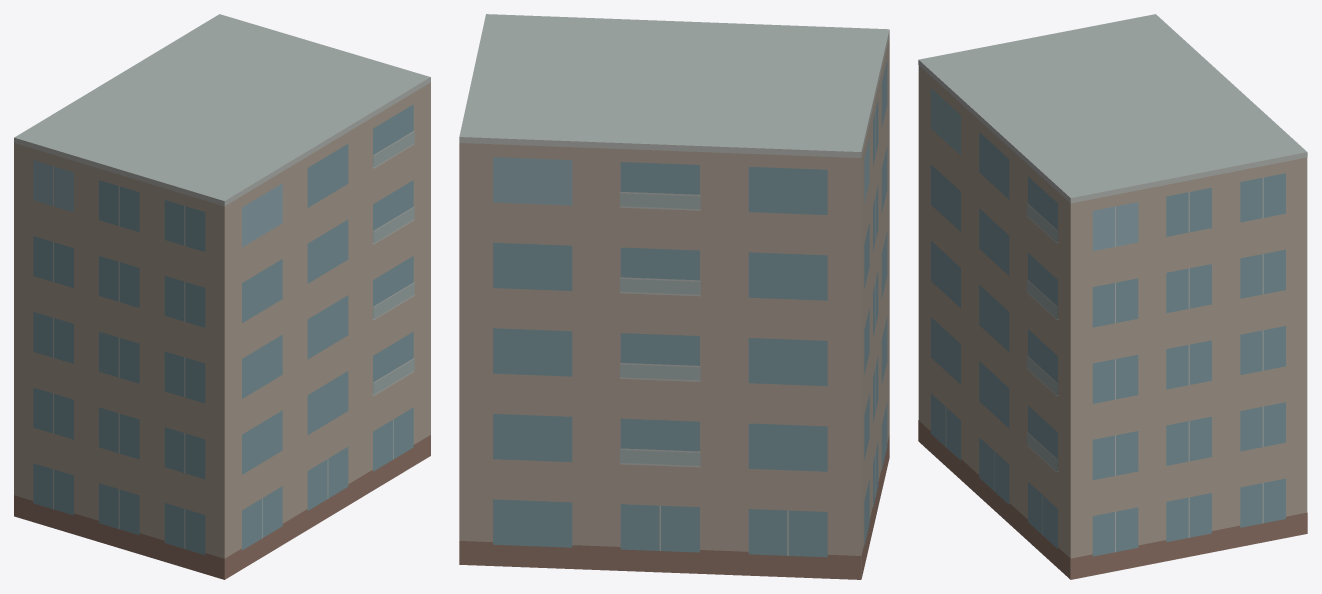
File: survey-upis-33005066.glb
3 renders of one model, left to right at view 1: azimuth 30°, elevation 25°; view 2: azimuth 150°, elevation 25°; view 3: azimuth 270°, elevation 25°, orthographic. The views are drawn at different scales.
Parts seen in each view (by area): view 1: survey-upis-33005066.tmp; view 2: survey-upis-33005066.tmp; view 3: survey-upis-33005066.tmp.
Part boxes in pixels (<box>): survey-upis-33005066.tmp: <box>14,14,430,579</box>; survey-upis-33005066.tmp: <box>459,14,889,579</box>; survey-upis-33005066.tmp: <box>918,14,1307,579</box>.
Size of the model in its own units: 18.22 by 17.6 by 16.27.
